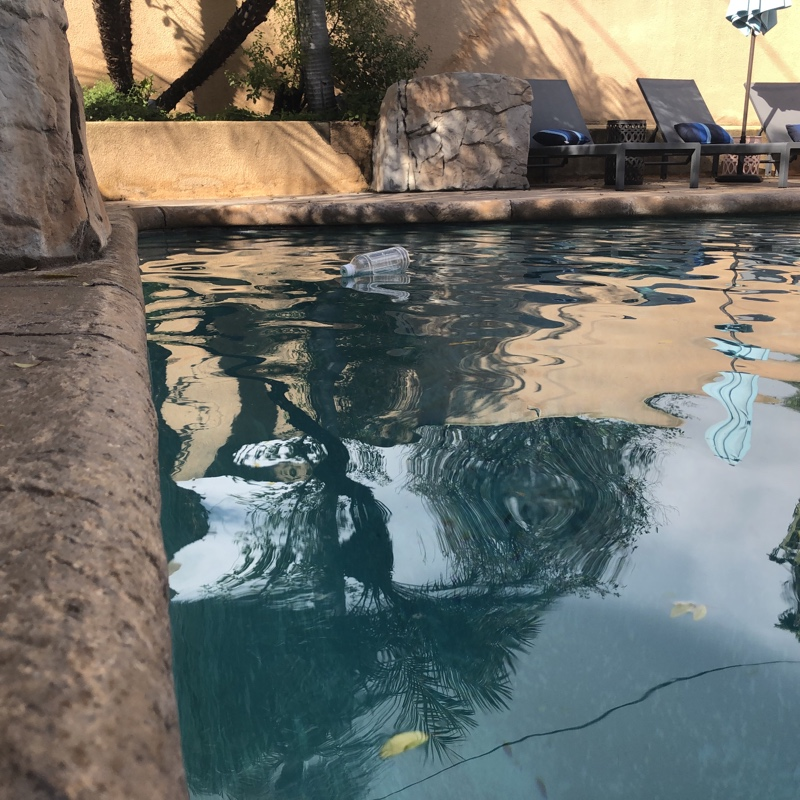Plastic Bottle: (340, 245, 413, 278)
